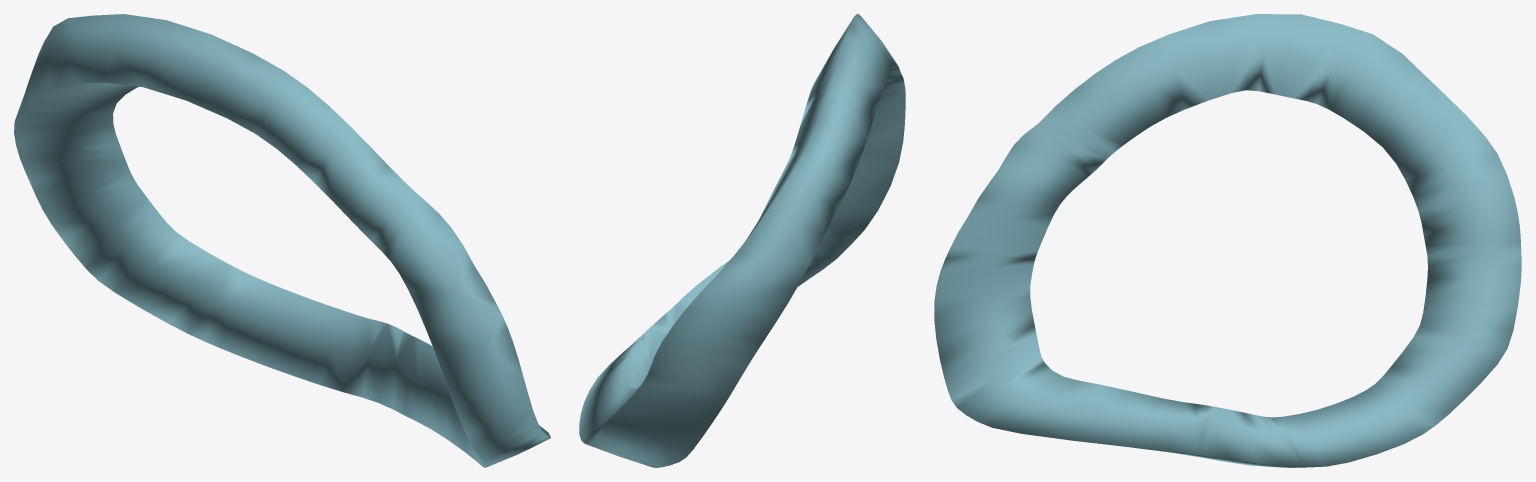
3 views of the same model, side by side, from view 1: azimuth 30°, elevation 25°; view 2: azimuth 150°, elevation 25°; view 3: azimuth 270°, elevation 25° (orthographic). The views are drawn at different scales.
Parts seen in each view (by area): view 1: 右侧关节盂唇; view 2: 右侧关节盂唇; view 3: 右侧关节盂唇.
Part boxes in pixels (x1,y1,x2,y2): 右侧关节盂唇: [14, 14, 550, 467]; 右侧关节盂唇: [579, 14, 905, 467]; 右侧关节盂唇: [934, 14, 1521, 467].
Bounding box in the file's own units: 0.028 × 0.0372 × 0.0527.
